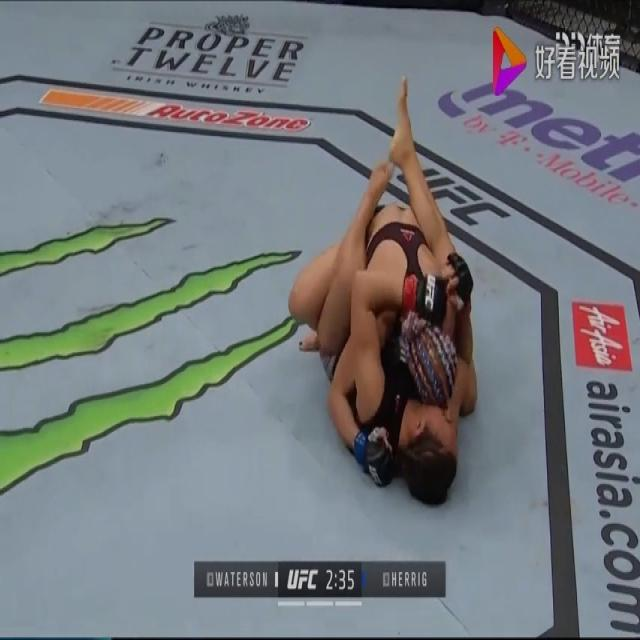fight: (288, 80, 480, 509)
